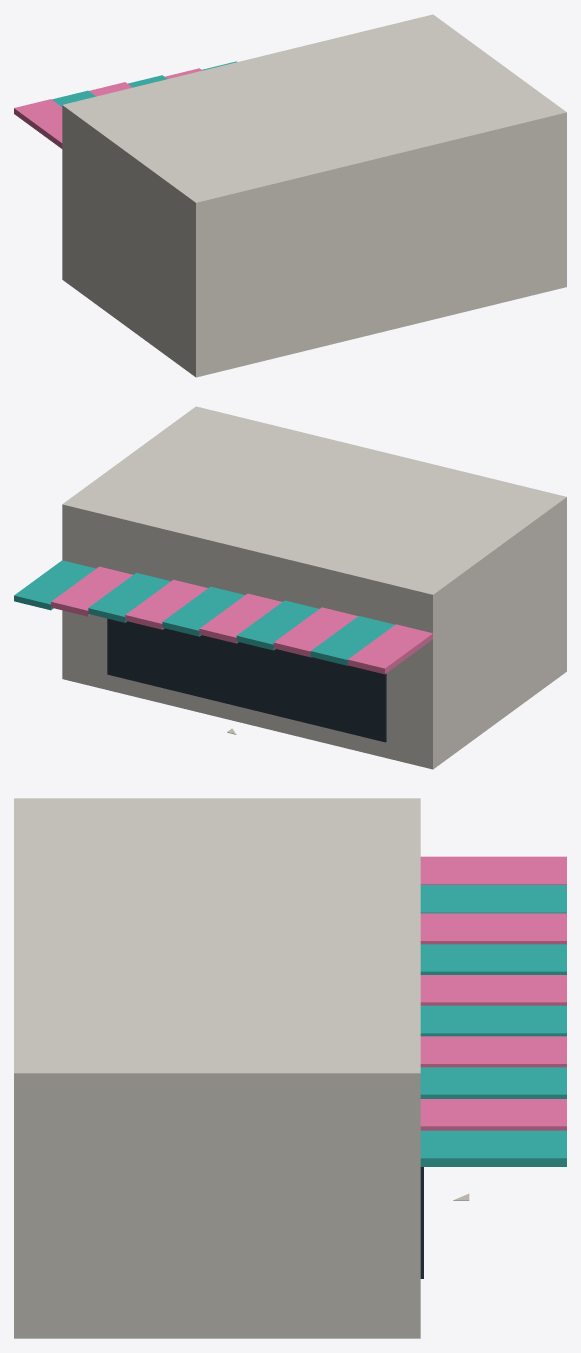
File: pb_icecream.glb
3 views of the same model, one above another, from view 1: azimuth 30°, elevation 25°; view 2: azimuth 150°, elevation 25°; view 3: azimuth 270°, elevation 25° (orthographic). The views are drawn at different scales.
Parts seen in each view (by area): view 1: pb_icecream_lod0; view 2: pb_icecream_lod0; view 3: pb_icecream_lod0.
Boxes of the visible parts, x1,y1,x2,y2 form: pb_icecream_lod0: (14,14,566,377); pb_icecream_lod0: (14,406,566,769); pb_icecream_lod0: (14,798,566,1338).
Size of what is drawn, in the model's own units: 8 by 3.6 by 6.8.
